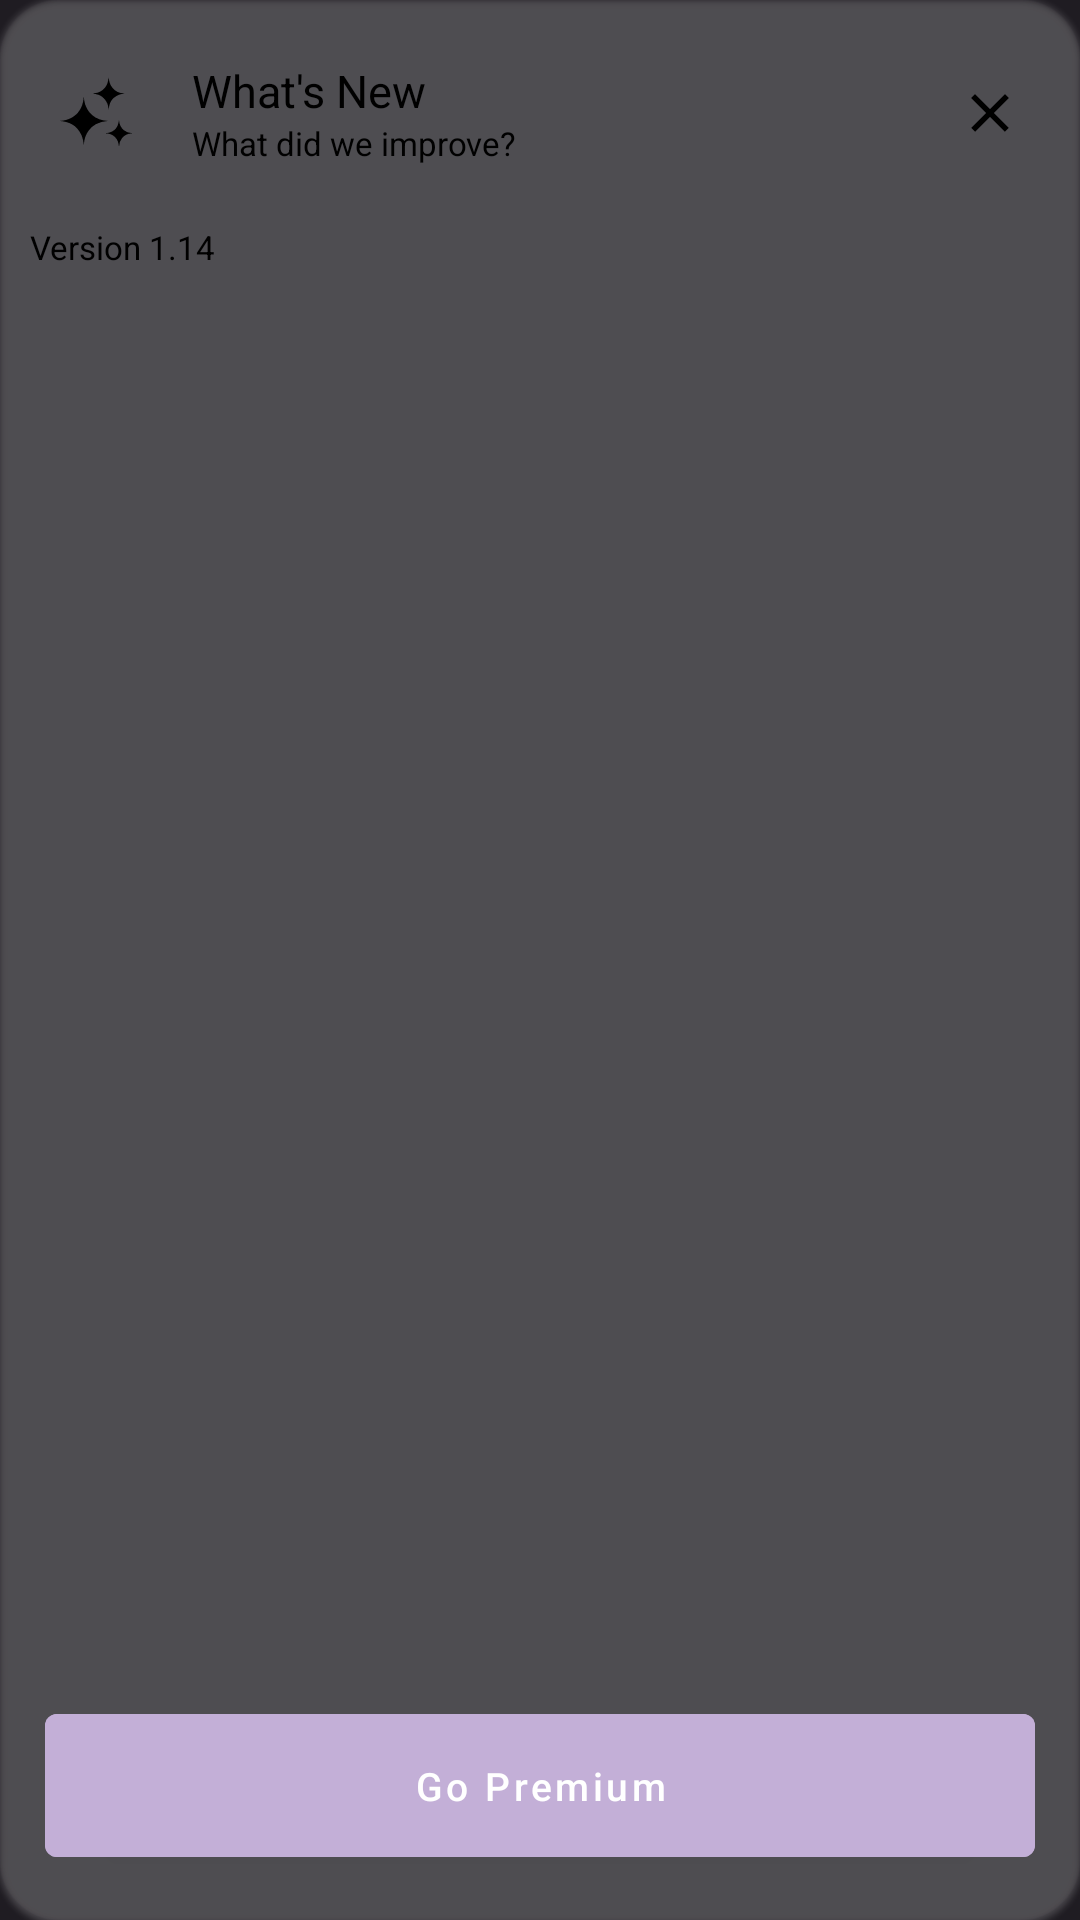

Locate icon controls on the screen. Image size 1080px x 1920px, boxes as (x1, y1, x2, y2).
close: (971, 94, 1009, 132)
